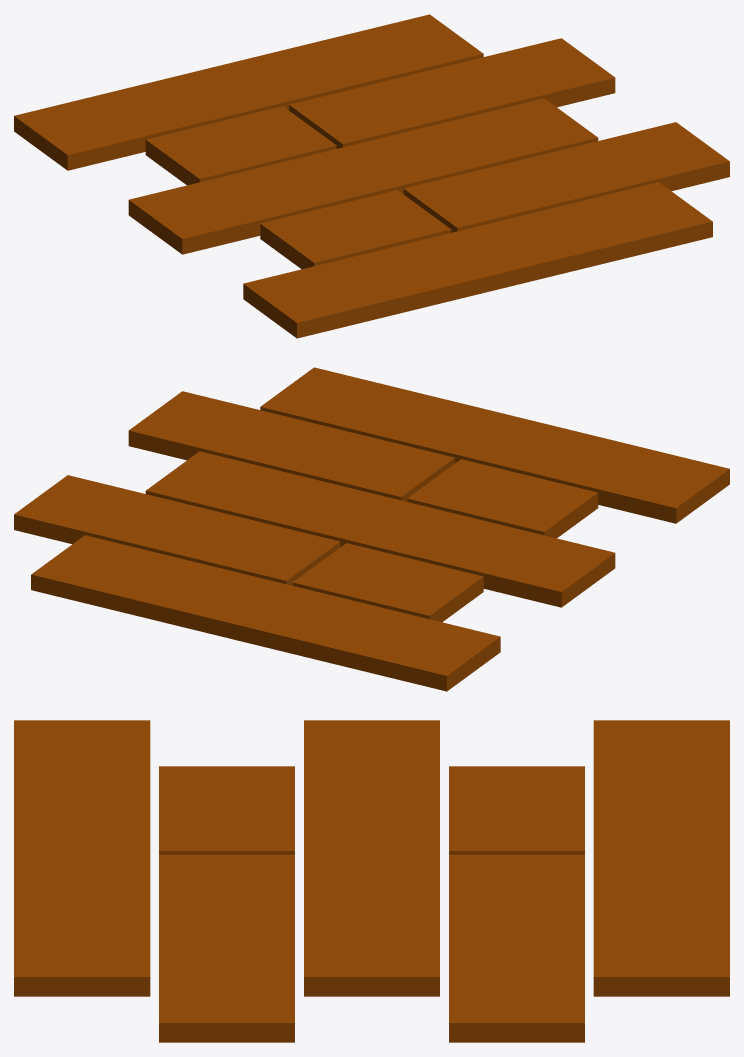
File: RPG_Tiles_Square_Wooden_Boards_06.FBX
3 renders of one model, top to bottom at view 1: azimuth 30°, elevation 25°; view 2: azimuth 150°, elevation 25°; view 3: azimuth 270°, elevation 25°, orthographic. The views are drawn at different scales.
Parts seen in each view (by area): view 1: RPG_Tiles_Square_Wooden_Boards_06; view 2: RPG_Tiles_Square_Wooden_Boards_06; view 3: RPG_Tiles_Square_Wooden_Boards_06.
Boxes of the visible parts, x1,y1,x2,y2 form: RPG_Tiles_Square_Wooden_Boards_06: (14,14,729,338); RPG_Tiles_Square_Wooden_Boards_06: (14,367,729,691); RPG_Tiles_Square_Wooden_Boards_06: (14,720,729,1042).
Size of the model in its own units: 2964 by 90 by 2964.
